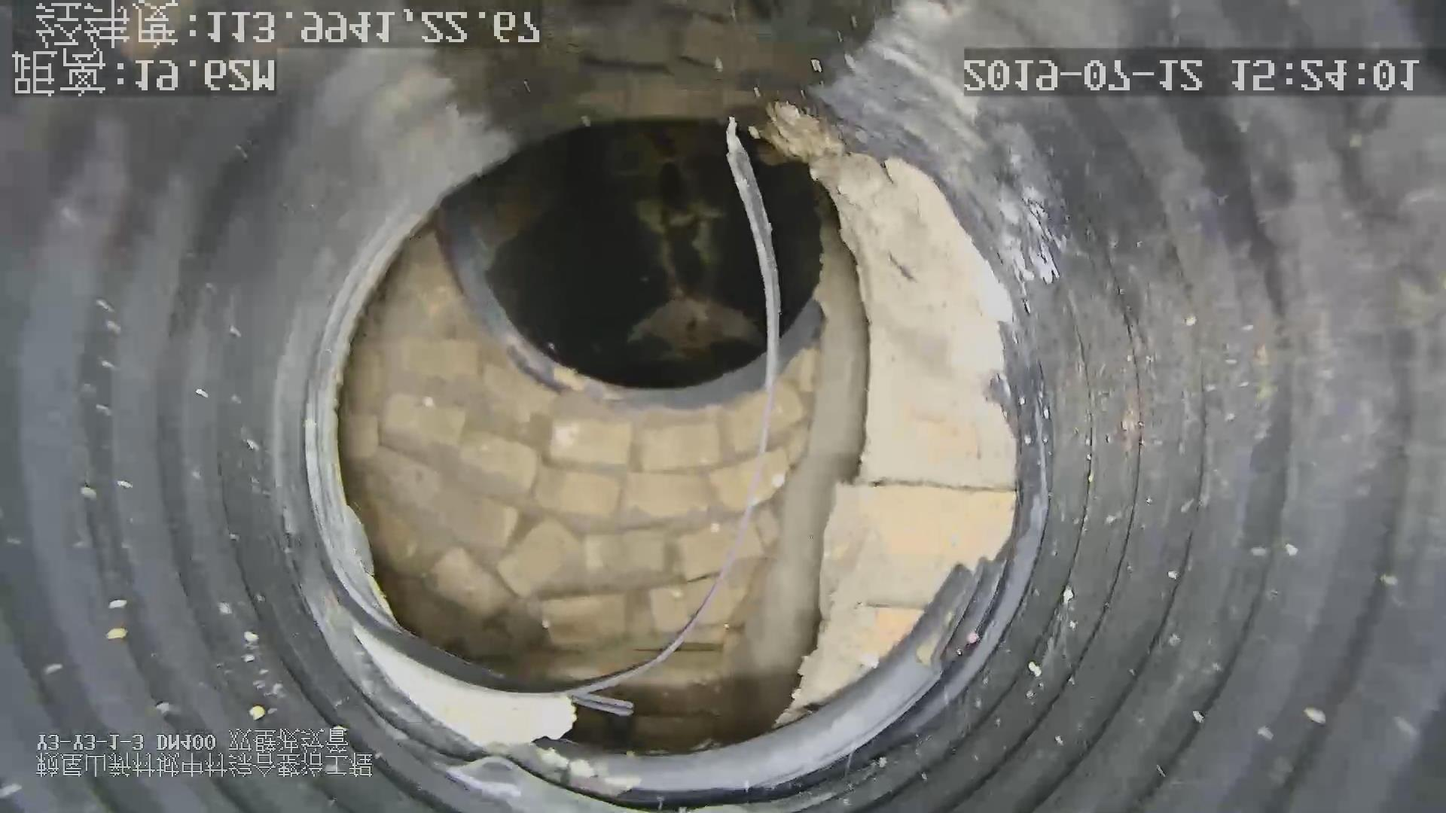JKCL: (272, 107, 808, 805)
